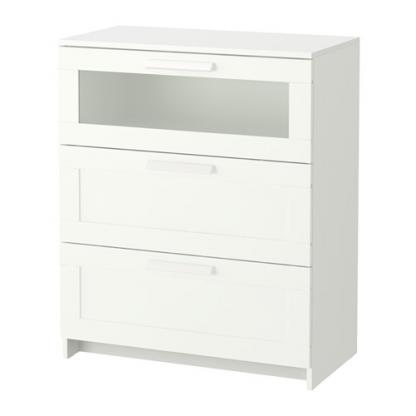Cabinet: (52, 18, 362, 391)
